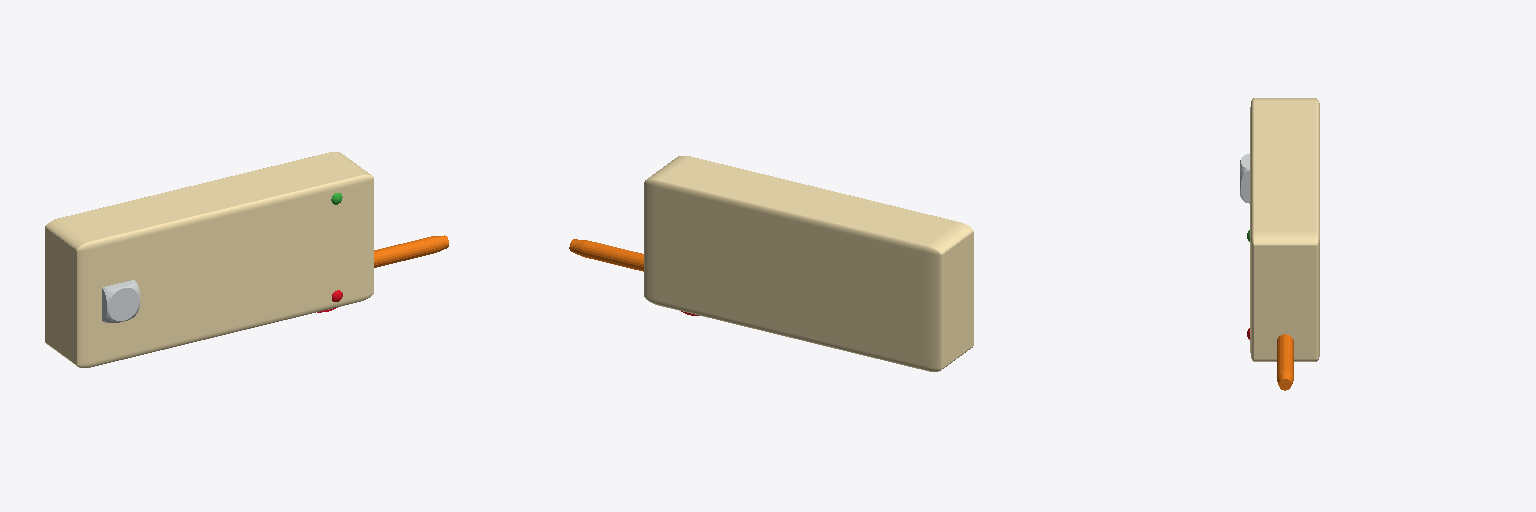
3 renders of one model, left to right at view 1: azimuth 30°, elevation 25°; view 2: azimuth 150°, elevation 25°; view 3: azimuth 270°, elevation 25°, orthographic.
Parts seen in each view (by area): view 1: obj_0; view 2: obj_0; view 3: obj_0.
Part boxes in pixels (x1,y1,x2,y2): obj_0: (45, 152, 448, 367); obj_0: (569, 156, 973, 371); obj_0: (1240, 98, 1319, 390).
Size of the model in its own units: 128 by 43 by 23.